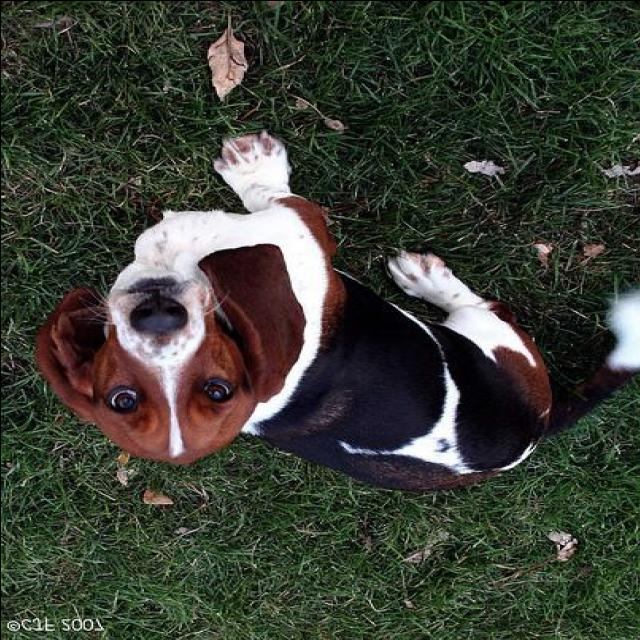basset: (33, 124, 637, 493)
